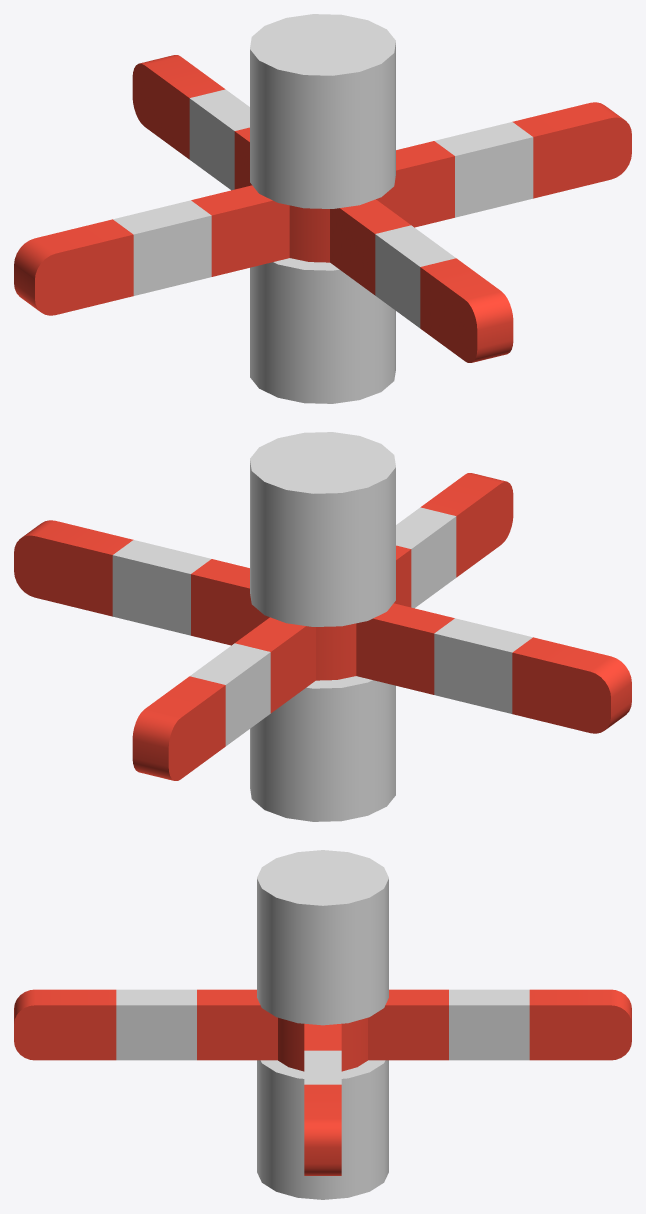
Rendered from Blades C Small.fbx.
3 renders of one model, top to bottom at view 1: azimuth 30°, elevation 25°; view 2: azimuth 150°, elevation 25°; view 3: azimuth 270°, elevation 25°, orthographic. The views are drawn at different scales.
Parts seen in each view (by area): view 1: Blades C Small.001, Blades C Small; view 2: Blades C Small.001, Blades C Small; view 3: Blades C Small.001, Blades C Small.
Part boxes in pixels (<box>): Blades C Small.001: <box>14,55,631,362</box>; Blades C Small: <box>250,14,395,403</box>; Blades C Small.001: <box>14,473,631,780</box>; Blades C Small: <box>250,432,395,821</box>; Blades C Small.001: <box>14,989,631,1175</box>; Blades C Small: <box>257,850,388,1199</box>.
Size of the model in its own units: 200 by 105 by 200.
